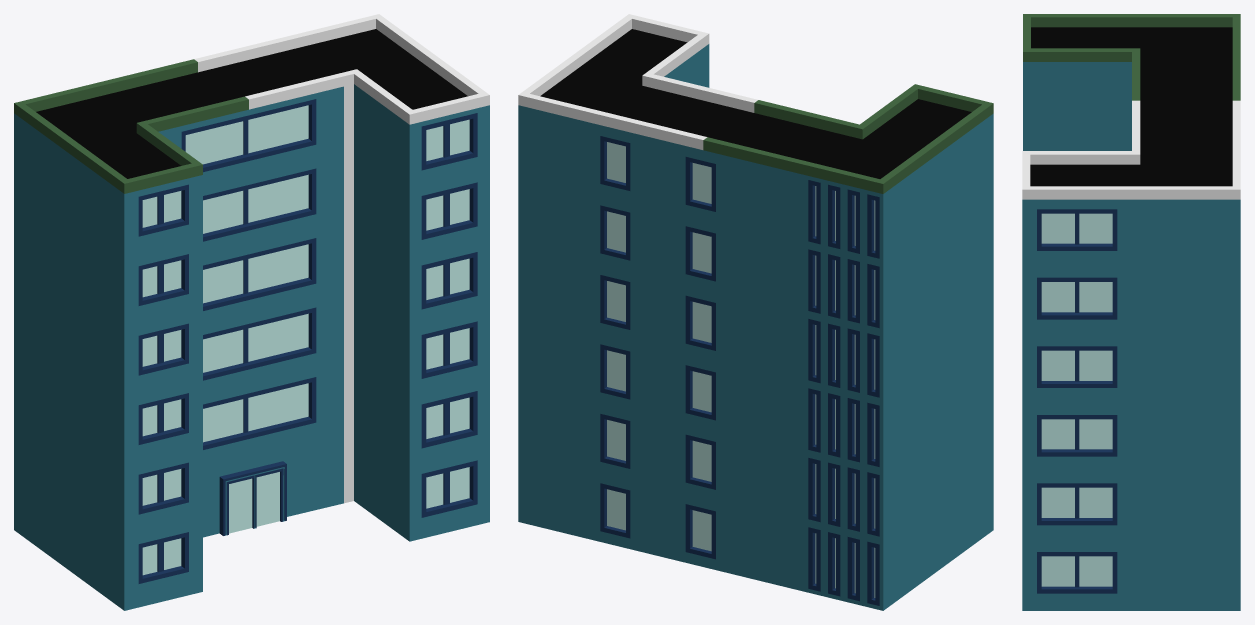
File: BlockOfFlats2.fbx
The picture shows the model from 3 angles, left to right: view 1: azimuth 30°, elevation 25°; view 2: azimuth 150°, elevation 25°; view 3: azimuth 270°, elevation 25°; orthographic projection.
Parts seen in each view (by area): view 1: BlockOfFlats2; view 2: BlockOfFlats2; view 3: BlockOfFlats2.
Boxes of the visible parts, x1,y1,x2,y2 form: BlockOfFlats2: [14, 14, 489, 610]; BlockOfFlats2: [518, 14, 993, 610]; BlockOfFlats2: [1022, 14, 1240, 610].
Bounding box in the file's own units: 8572 × 9582 × 4503.
